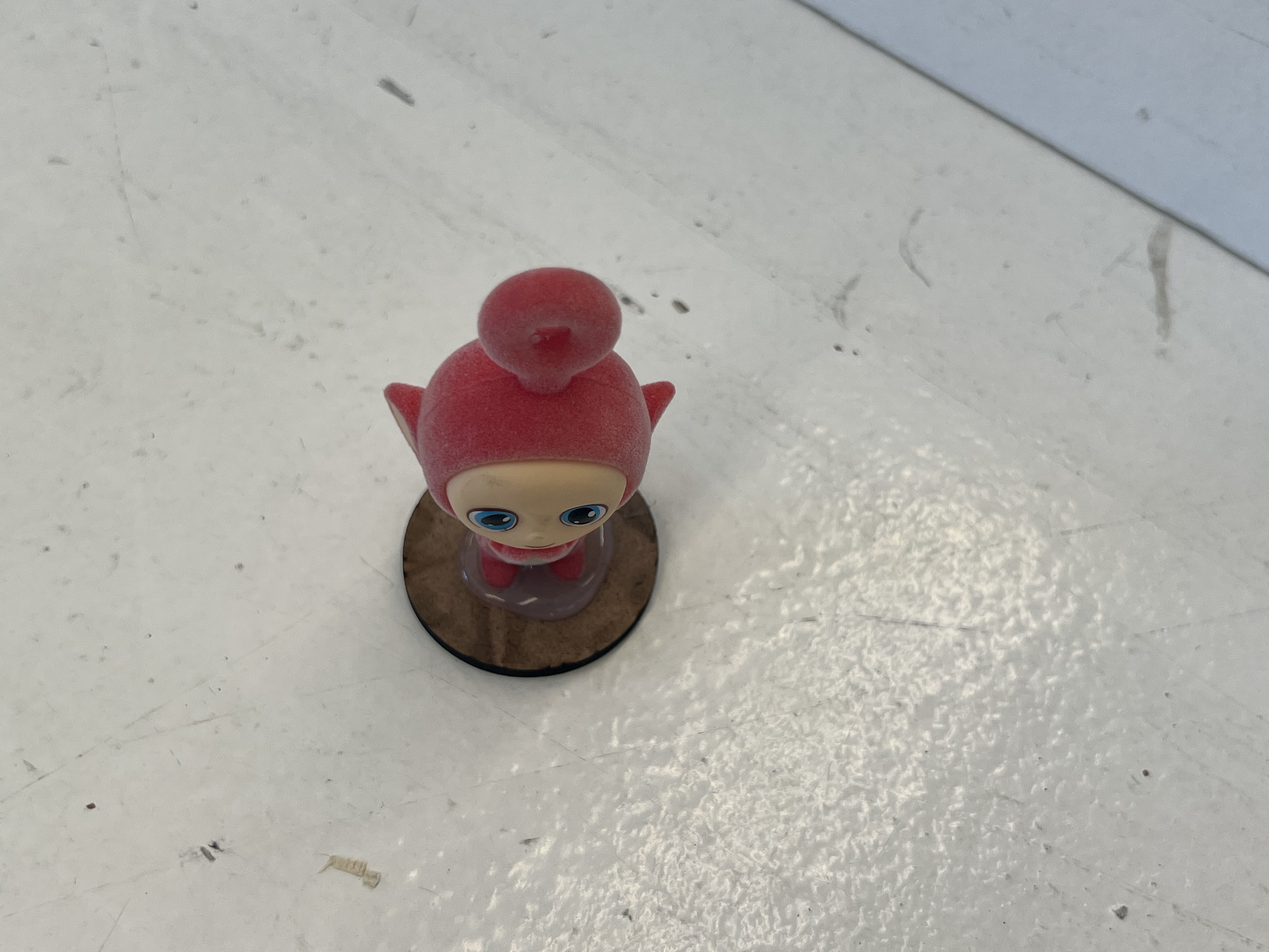teletubby: (385, 268, 675, 589)
